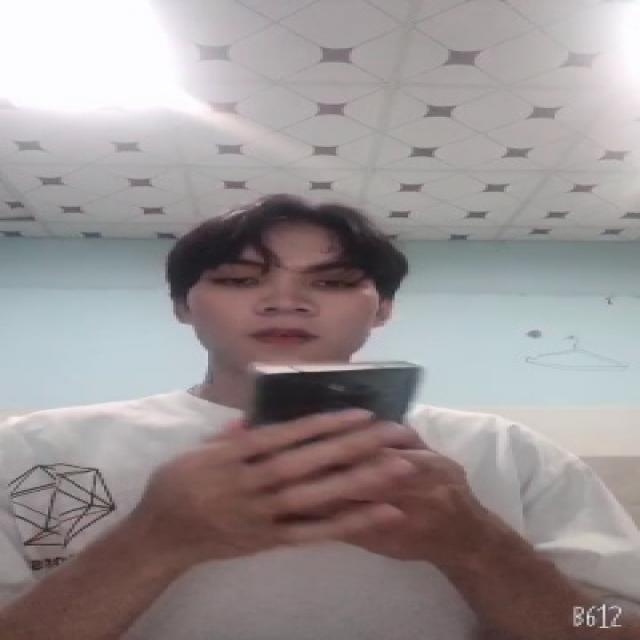Phone: (239, 358, 426, 521)
